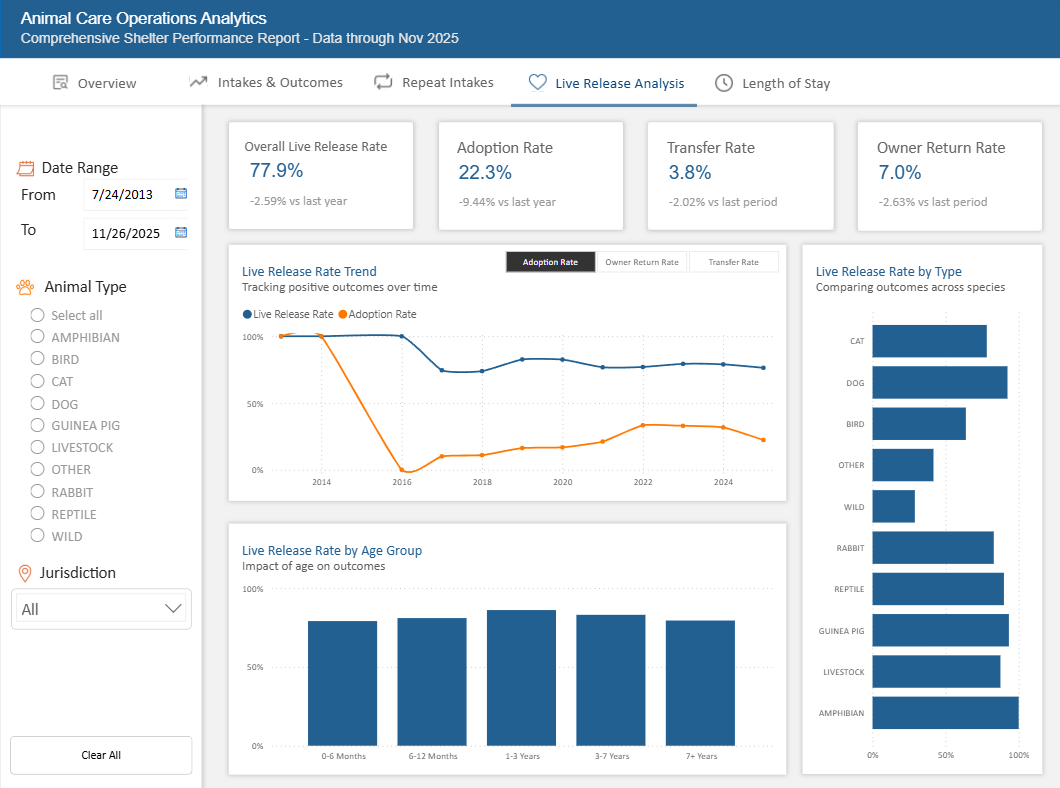

What the dashboard file says about the page in this screenshot:
{"tool":"powerbi","page":{"name":"Live Release Analysis","canvas":[1200,900],"ordinal":3},"visuals":[{"type":"shape","box":[0,65.6,228.9,834.4],"z":0},{"type":"shape","box":[970,142.5,208.8,122.5],"z":1000},{"type":"shape","box":[732.5,142.5,210,121.2],"z":2000},{"type":"shape","box":[496.2,142.5,208.8,121.2],"z":3000},{"type":"shape","box":[258.2,142.9,208.6,121],"z":4000},{"type":"shape","box":[0,9.9,1280.5,113.1],"z":5000},{"type":"shape","box":[0,0.8,1200,69.2],"z":6000},{"type":"textbox","box":[18.4,9.9,621.9,33.9],"z":7000},{"type":"cardVisual","fields":{"Data":["dataset.Adoption Rate"]},"box":[495,143.8,210,120],"z":8000},{"type":"cardVisual","fields":{"Data":["dataset.Transfer Rate"]},"box":[732.5,143.8,208.8,120],"z":9000},{"type":"cardVisual","fields":{"Data":["dataset.Owner Return Rate"]},"box":[970,143.8,211.2,121.2],"z":10000},{"type":"textbox","box":[18.4,34.6,668.6,34.6],"z":11000},{"type":"cardVisual","title":"Total Intakes(YTD)","fields":{"Data":["dataset.Live Release Rate"]},"box":[258,143,209,121],"z":12000},{"type":"textbox","box":[271.4,155,180.9,33.9],"z":13000},{"type":"textbox","box":[511.1,155,176.7,34.4],"z":14000},{"type":"textbox","box":[749,155,177,35],"z":15000},{"type":"textbox","box":[986,155,177,35],"z":16000},{"type":"slicer","fields":{"Values":["dataset.Intake Date"]},"box":[81.8,196.4,134.5,102.7],"z":17000},{"type":"textbox","box":[11.8,178.2,127.3,32.7],"z":18000},{"type":"image","box":[18.2,184.5,20,20],"z":19000},{"type":"textbox","box":[18.9,207.8,63.3,33.3],"z":20000},{"type":"textbox","box":[17.8,247.8,64.4,33.3],"z":21000},{"type":"listSlicer","fields":{"Values":["dataset.Animal Type"]},"box":[28.9,344.4,187.8,280],"z":22000},{"type":"textbox","box":[18.4,312.3,130,32.5],"z":23000},{"type":"image","box":[18.9,318.9,20,20],"z":24000},{"type":"textbox","box":[17.8,636.7,117.8,32.2],"z":25000},{"type":"image","box":[18.9,643.3,20,20],"z":26000},{"type":"slicer","fields":{"Values":["dataset.Jurisdiction"]},"box":[12.5,670,203.8,46],"z":27000},{"type":"actionButton","box":[11.3,836.7,206.3,43.8],"z":28000},{"type":"actionButton","box":[19,70,180,53],"z":29000},{"type":"actionButton","box":[198.8,70,200,52.5],"z":30000},{"type":"actionButton","box":[578,70,210,55],"z":31000},{"type":"clusteredBarChart","title":"Live Release Rate by Type","fields":{"Category":["dataset.Animal Type"],"Y":["dataset.Live Release Rate"]},"box":[907.5,281.2,271.2,598.8],"z":33000},{"type":"columnChart","title":"Live Release Rate by Age Group","fields":{"Y":["dataset.Live Release Rate"],"Category":["AgeGroupTable.Age Group"]},"box":[258.6,596.4,630.3,284.1],"z":34000},{"type":"lineChart","title":"Live Release Rate Trend","fields":{"Y":["dataset.Live Release Rate","dataset.Adoption Rate(YTD)"],"Category":["Date.YEAR"]},"box":[258.6,281.3,630.3,289.7],"z":35000},{"type":"actionButton","box":[398.8,70,180,52.5],"z":36000},{"type":"actionButton","box":[788.8,70,180,55],"z":37000},{"type":"slicer","fields":{"Values":["LRRParameters.LRRParameters"]},"box":[545.5,281.3,359,38.2],"z":38000}]}

Visuals, with their boxes on the page's 1200x900 design canvas (x1, y1, x2, y2). These are canvas units, not pixel positions in the 1060x788 screenshot, which may show the page scaled, cropped or inside an application window:
shape: <box>0,66,229,900</box>
shape: <box>970,142,1179,265</box>
shape: <box>732,142,942,264</box>
shape: <box>496,142,705,264</box>
shape: <box>258,143,467,264</box>
shape: <box>0,10,1280,123</box>
shape: <box>0,1,1200,70</box>
textbox: <box>18,10,640,44</box>
cardVisual - dataset.Adoption Rate: <box>495,144,705,264</box>
cardVisual - dataset.Transfer Rate: <box>732,144,941,264</box>
cardVisual - dataset.Owner Return Rate: <box>970,144,1181,265</box>
textbox: <box>18,35,687,69</box>
"Total Intakes(YTD)" cardVisual: <box>258,143,467,264</box>
textbox: <box>271,155,452,189</box>
textbox: <box>511,155,688,189</box>
textbox: <box>749,155,926,190</box>
textbox: <box>986,155,1163,190</box>
slicer - dataset.Intake Date: <box>82,196,216,299</box>
textbox: <box>12,178,139,211</box>
image: <box>18,184,38,204</box>
textbox: <box>19,208,82,241</box>
textbox: <box>18,248,82,281</box>
listSlicer - dataset.Animal Type: <box>29,344,217,624</box>
textbox: <box>18,312,148,345</box>
image: <box>19,319,39,339</box>
textbox: <box>18,637,136,669</box>
image: <box>19,643,39,663</box>
slicer - dataset.Jurisdiction: <box>12,670,216,716</box>
actionButton: <box>11,837,218,880</box>
actionButton: <box>19,70,199,123</box>
actionButton: <box>199,70,399,122</box>
actionButton: <box>578,70,788,125</box>
"Live Release Rate by Type" clusteredBarChart: <box>908,281,1179,880</box>
"Live Release Rate by Age Group" columnChart: <box>259,596,889,880</box>
"Live Release Rate Trend" lineChart: <box>259,281,889,571</box>
actionButton: <box>399,70,579,122</box>
actionButton: <box>789,70,969,125</box>
slicer - LRRParameters.LRRParameters: <box>546,281,904,320</box>
